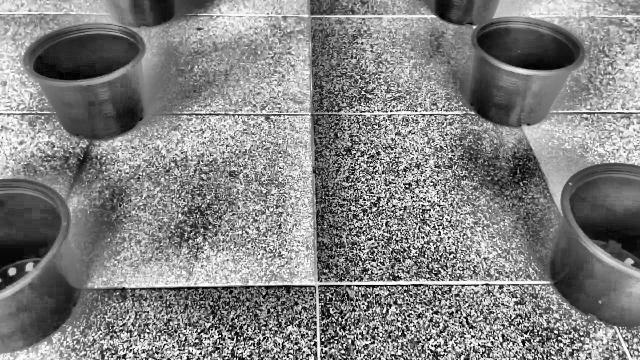pot: (22, 24, 148, 141), (0, 179, 82, 353), (554, 164, 640, 326), (467, 16, 587, 128)
